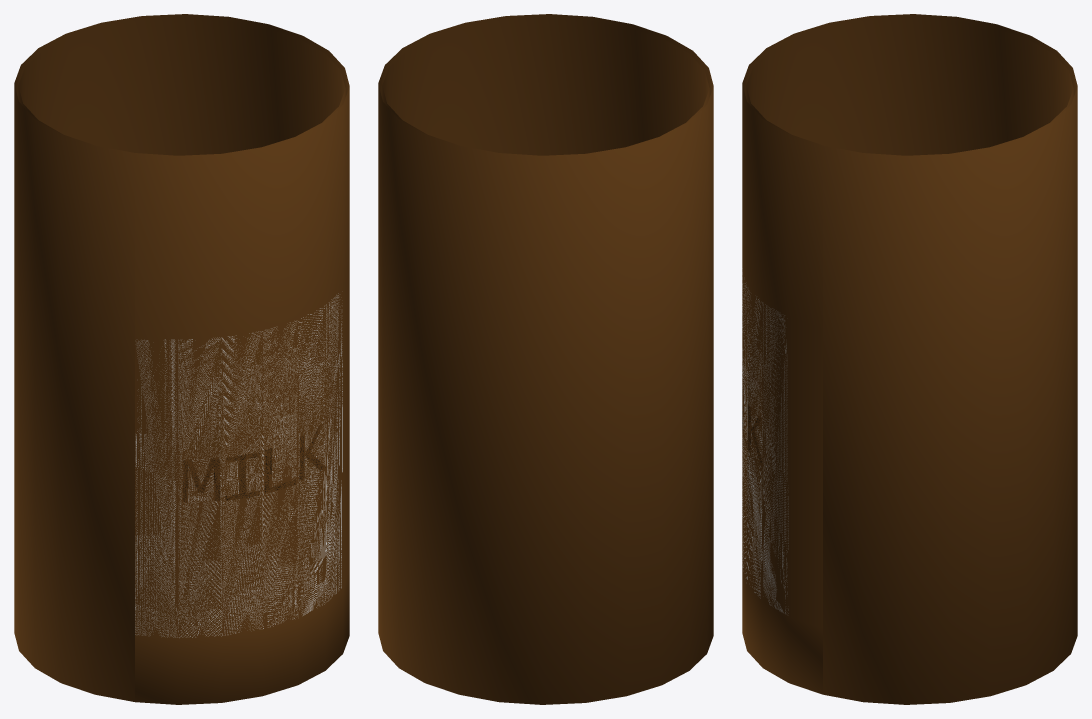
The picture shows the model from 3 angles, left to right: view 1: azimuth 30°, elevation 25°; view 2: azimuth 150°, elevation 25°; view 3: azimuth 270°, elevation 25°; orthographic projection.
Size of the model in its own units: 0.692 by 1.25 by 0.692.
